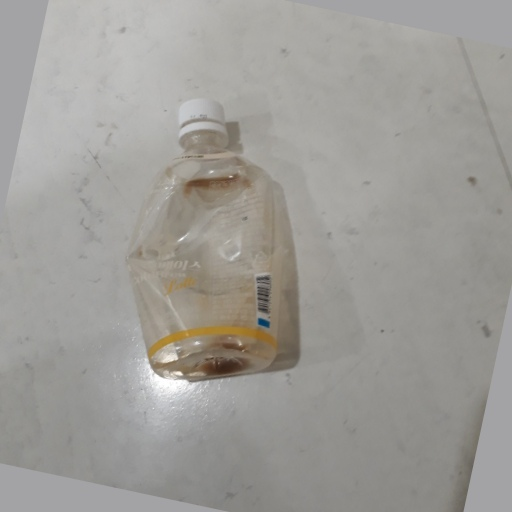Plastic_0: (126, 95, 288, 380)
